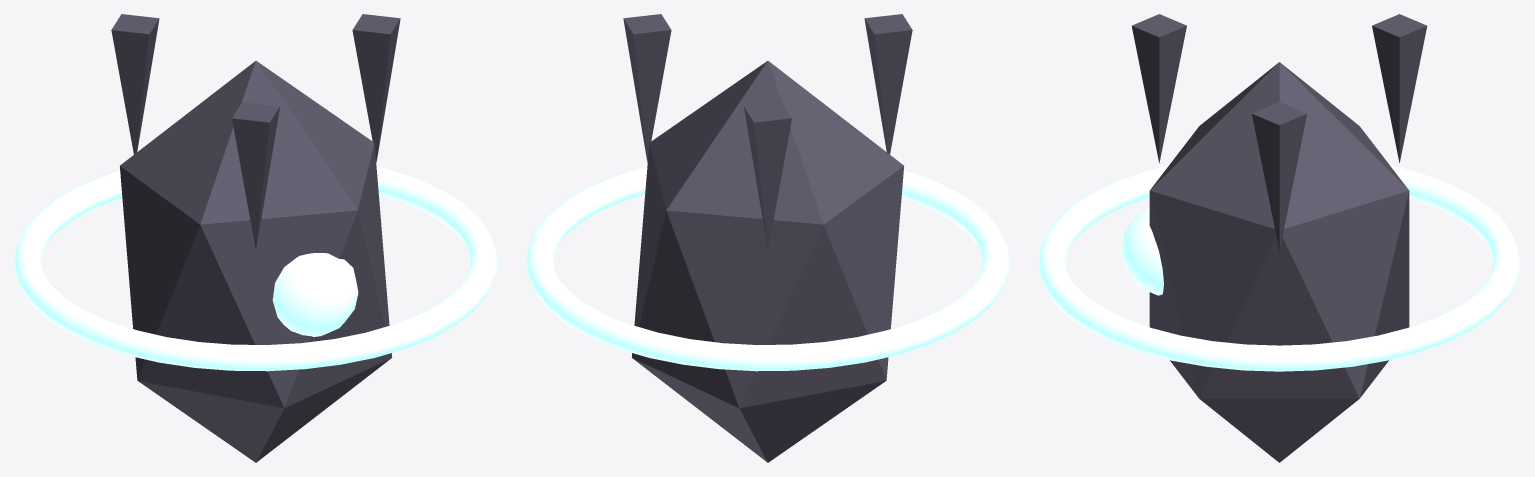
File: creature_drone.glb
3 renders of one model, left to right at view 1: azimuth 30°, elevation 25°; view 2: azimuth 150°, elevation 25°; view 3: azimuth 270°, elevation 25°, orthographic.
Parts seen in each view (by area): view 1: c, ring, fins, eye; view 2: c, ring, fins; view 3: c, ring, fins, eye.
Part boxes in pixels (box(x1,y1,x2,y2)): c: box(120, 61, 392, 462); ring: box(14, 166, 497, 371); fins: box(111, 14, 400, 249); eye: box(272, 253, 358, 336); c: box(631, 61, 903, 462); ring: box(526, 166, 1009, 371); fins: box(623, 14, 912, 249); c: box(1149, 62, 1409, 462); ring: box(1038, 165, 1520, 371); fins: box(1131, 14, 1427, 251); eye: box(1121, 208, 1163, 295).
Size of the model in its own units: 1.74 by 1.62 by 1.74.
